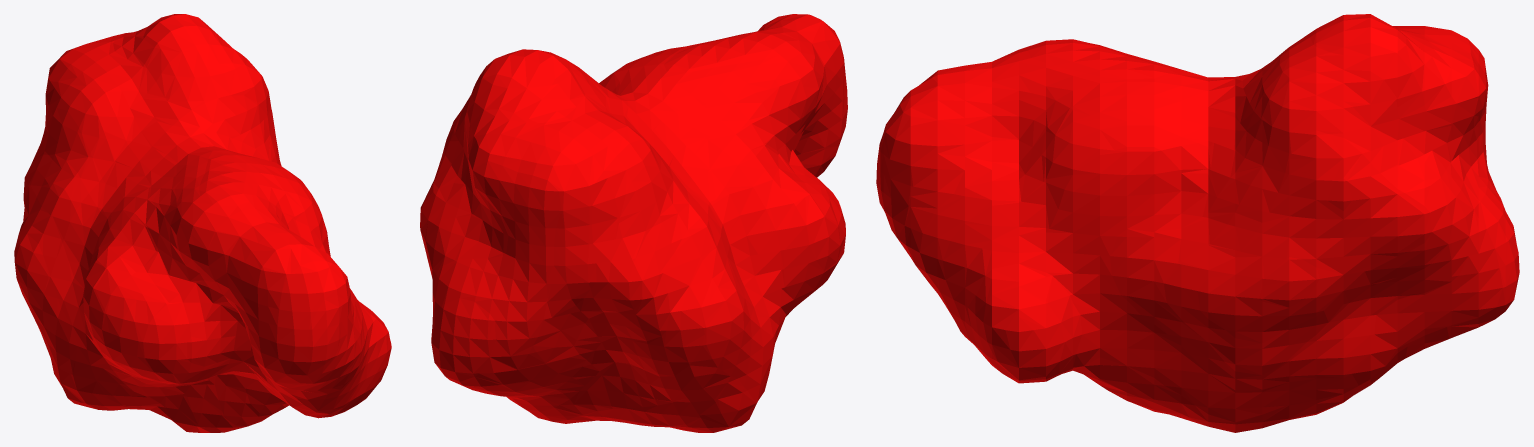
File: rnpA_coarse.dae
3 renders of one model, left to right at view 1: azimuth 30°, elevation 25°; view 2: azimuth 150°, elevation 25°; view 3: azimuth 270°, elevation 25°, orthographic. The views are drawn at different scales.
Parts seen in each view (by area): view 1: rnpA; view 2: rnpA; view 3: rnpA.
Part boxes in pixels (bbox=[...]): rnpA: bbox=[14, 14, 391, 432]; rnpA: bbox=[420, 14, 847, 432]; rnpA: bbox=[876, 14, 1519, 432].
Size of the model in its own units: 30.92 by 39.8 by 56.27.
